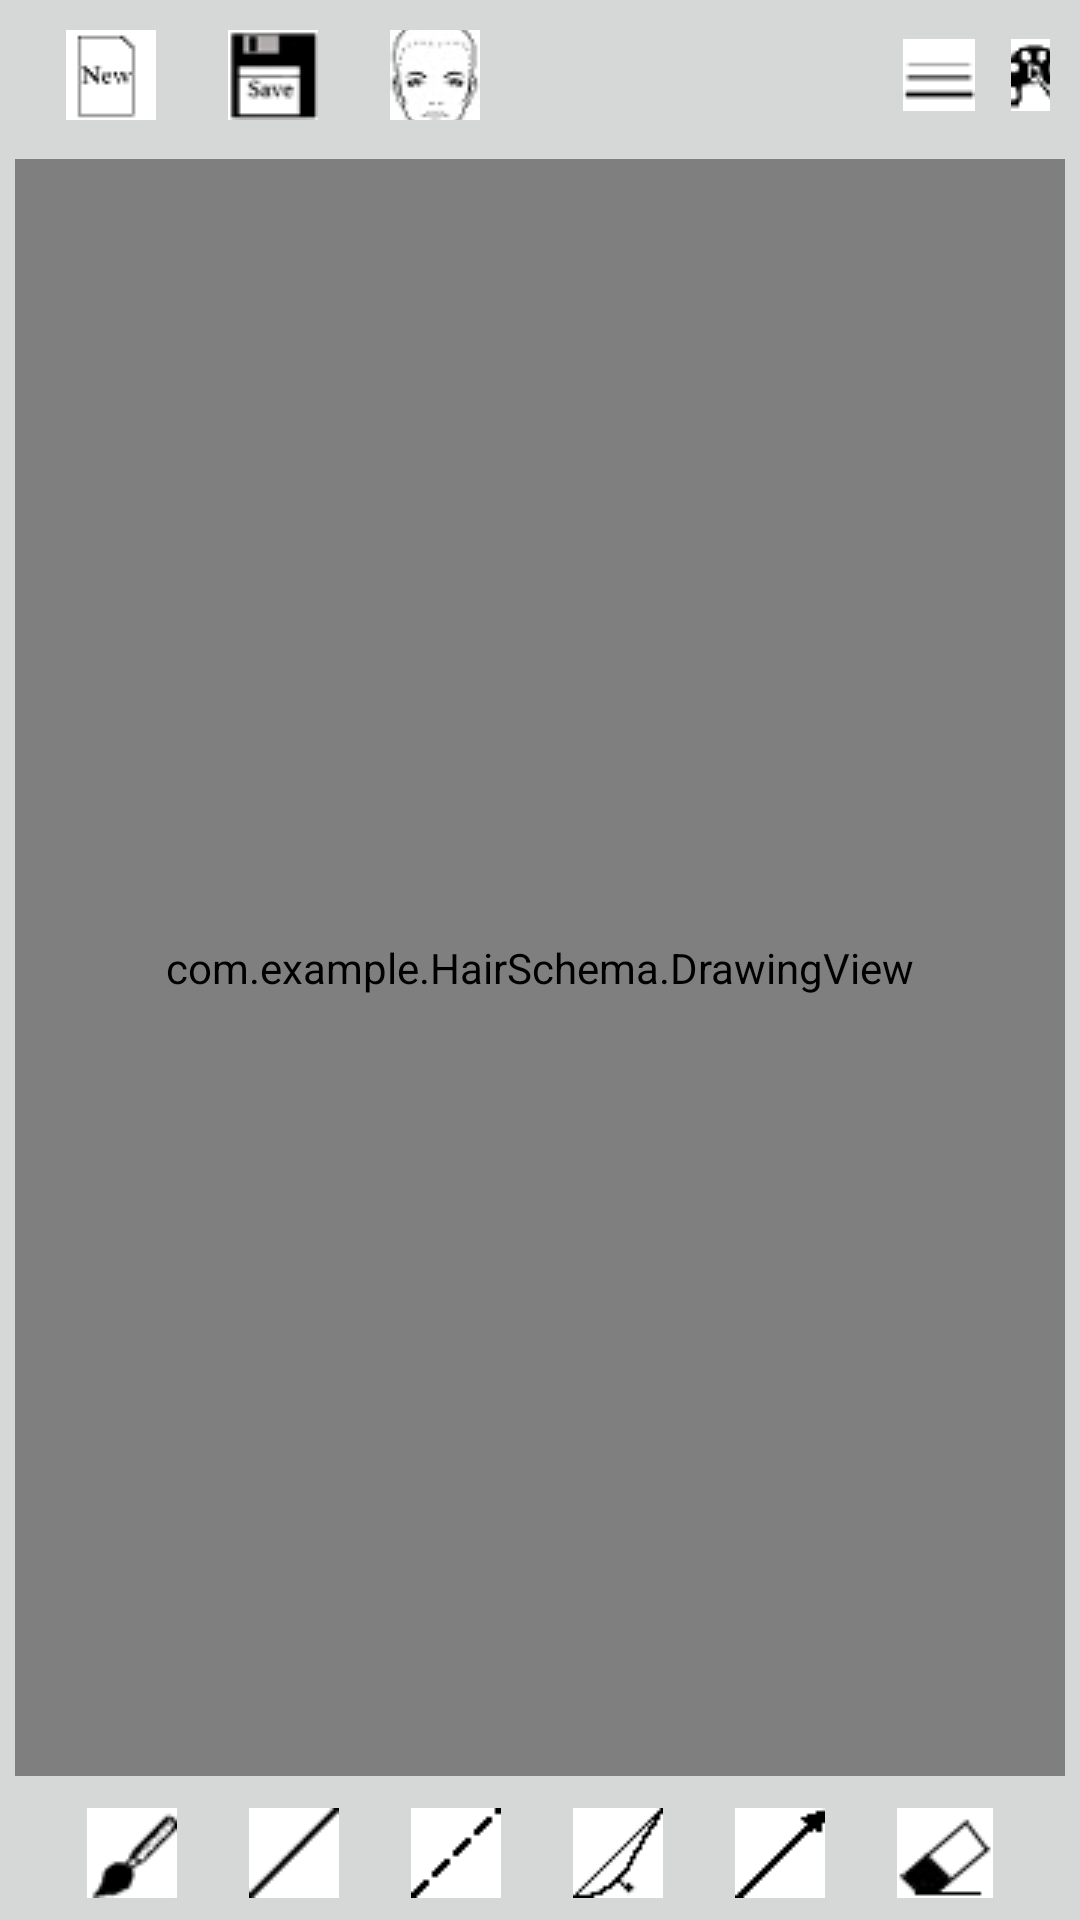

Icon bounding boxes for this 1080 × 1920 phone screenshot, format (x1, y1, x2, y2):
arrow: (735, 1808, 825, 1898)
Brush: (87, 1808, 177, 1898)
brush size: (903, 39, 975, 111)
doted line: (411, 1808, 501, 1898)
Erase: (897, 1808, 993, 1898)
Head: (390, 30, 480, 120)
Line: (249, 1808, 339, 1898)
Palette: (1011, 39, 1050, 111)
smooth line: (573, 1808, 663, 1898)
